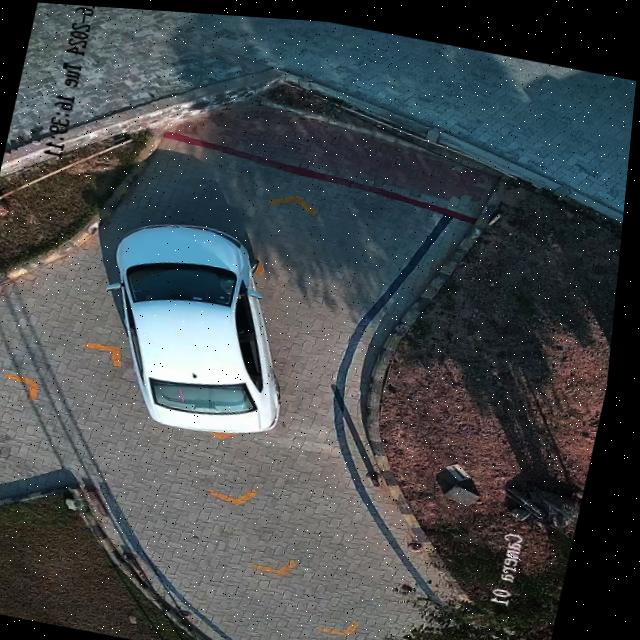car: (121, 217, 290, 429)
